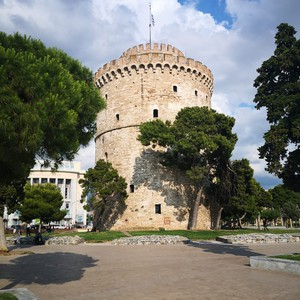White Tower: (86, 2, 220, 234)
